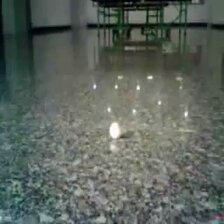w: (108, 121, 122, 140)
